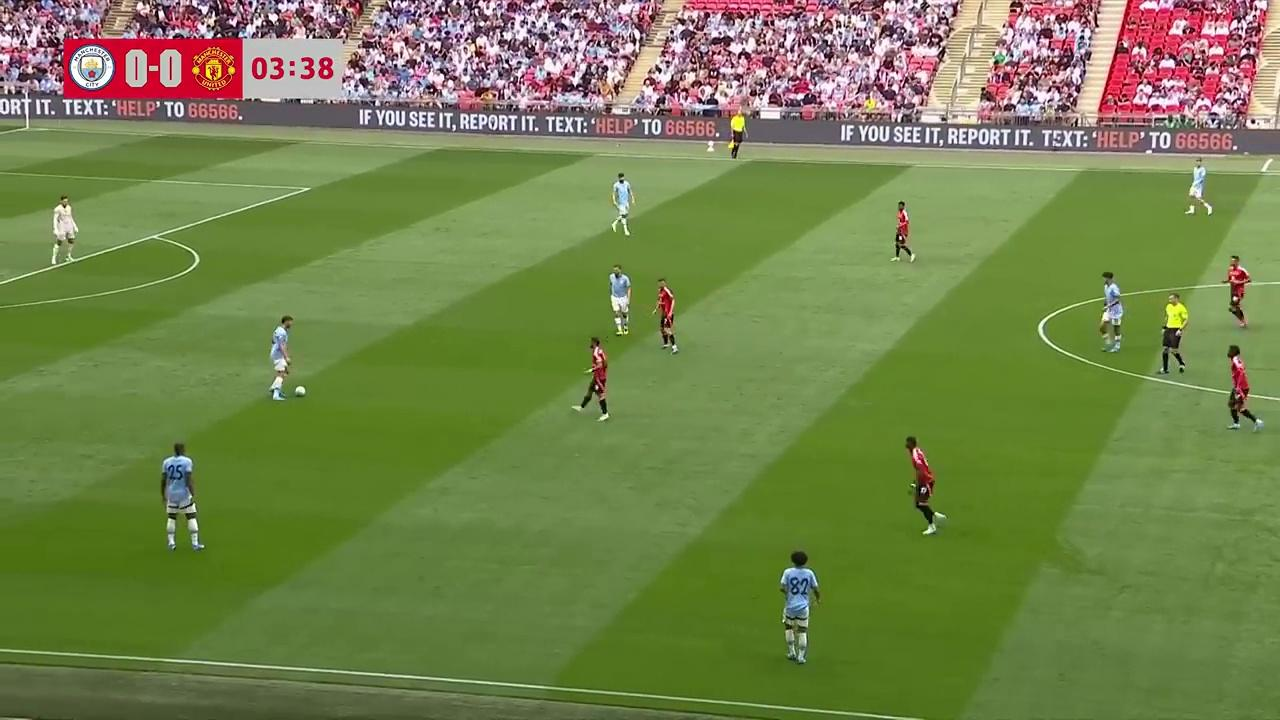ball: (293, 382, 307, 396)
player: (160, 441, 204, 552), (779, 549, 820, 664), (905, 436, 945, 534), (267, 314, 306, 400), (1226, 346, 1263, 432), (573, 337, 609, 421), (1222, 255, 1250, 328), (50, 195, 78, 266), (651, 279, 677, 353), (1100, 274, 1124, 351), (608, 265, 631, 335), (1185, 160, 1212, 215), (611, 172, 634, 235), (892, 201, 915, 263)
referee: (1159, 293, 1188, 376), (727, 111, 745, 159)
